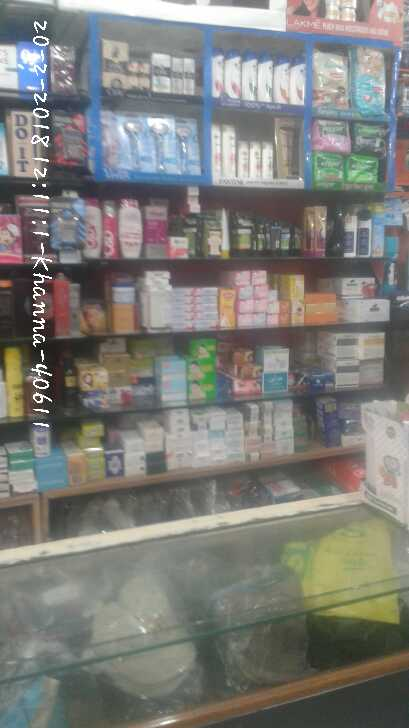venus: (147, 114, 175, 172), (119, 114, 147, 169), (175, 118, 199, 172)
